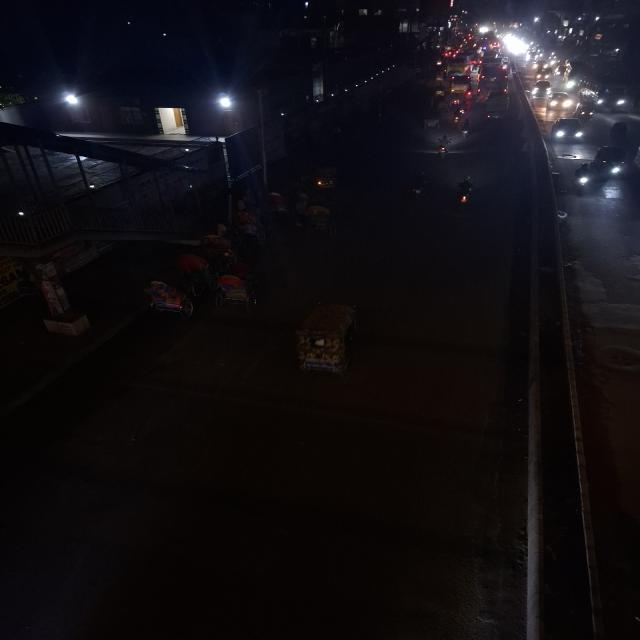bus: (582, 76, 630, 113), (476, 71, 511, 93), (445, 56, 472, 77)
car: (588, 144, 628, 180), (551, 115, 587, 146), (545, 90, 573, 112), (533, 79, 553, 98)
motorcycle: (450, 175, 479, 212), (572, 159, 596, 196), (432, 136, 454, 162), (451, 104, 466, 126)
pickup_van: (483, 91, 513, 112)
rickshaw: (284, 299, 368, 383), (205, 264, 267, 312), (136, 277, 200, 321), (295, 197, 348, 243), (607, 119, 631, 145)
